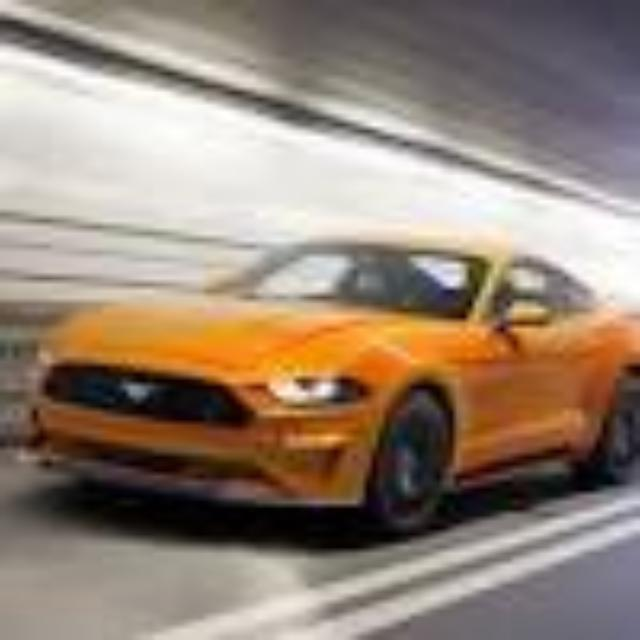ford-mustang: (26, 225, 640, 538)
